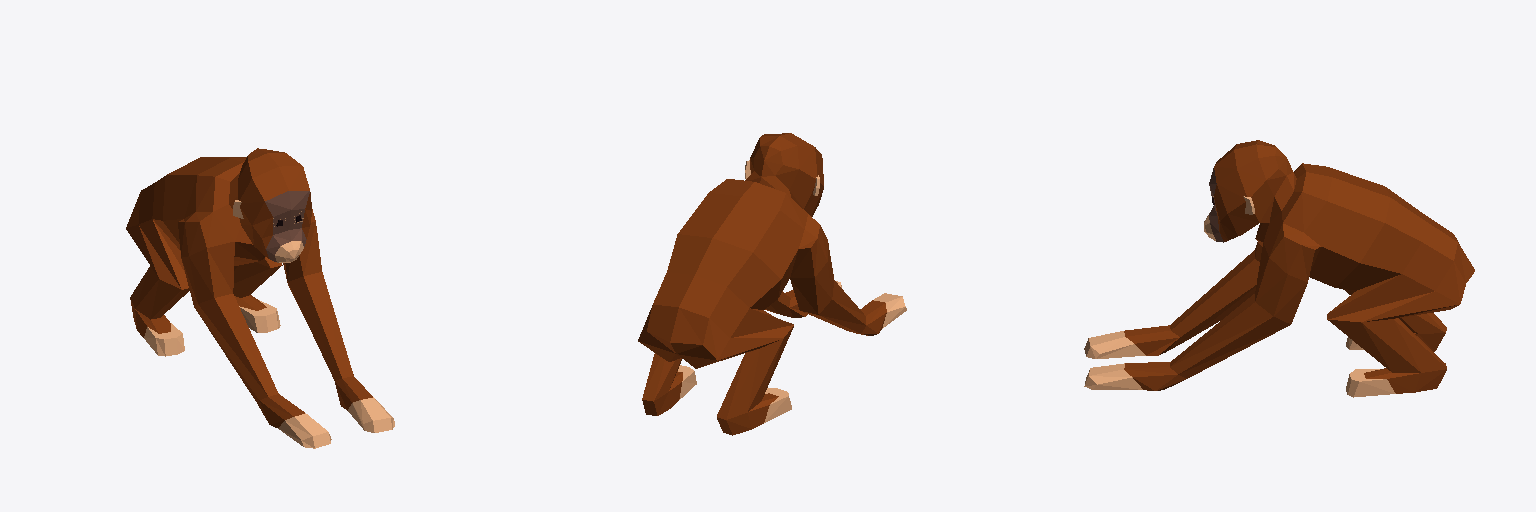
The picture shows the model from 3 angles: view 1: azimuth 30°, elevation 25°; view 2: azimuth 150°, elevation 25°; view 3: azimuth 270°, elevation 25°; orthographic projection.
Visible parts, largest first — view 1: Geo_Ape; view 2: Geo_Ape; view 3: Geo_Ape.
Part boxes in pixels (x1,y1,x2,y2): Geo_Ape: (126,148,394,448); Geo_Ape: (638,133,906,435); Geo_Ape: (1084,140,1474,397).
Bounding box in the file's own units: 29.11 × 49.02 × 77.89.
Materials: 1 (1 with a texture image).